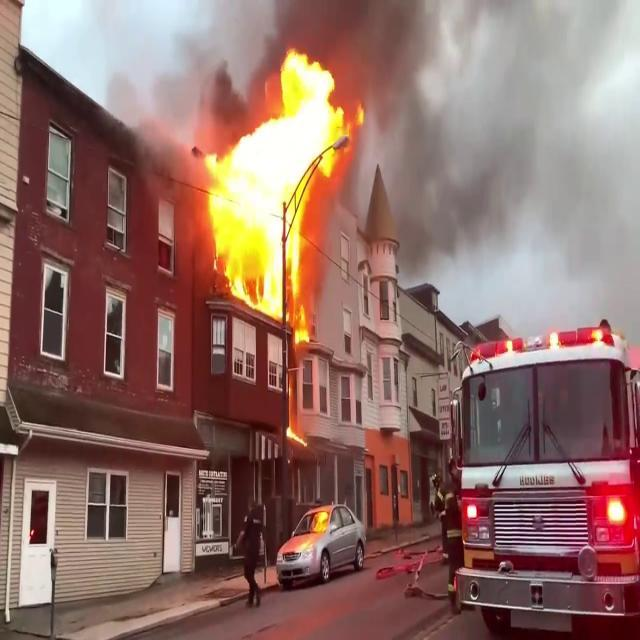Fire: (199, 37, 351, 327)
Smoke: (338, 0, 632, 330)
